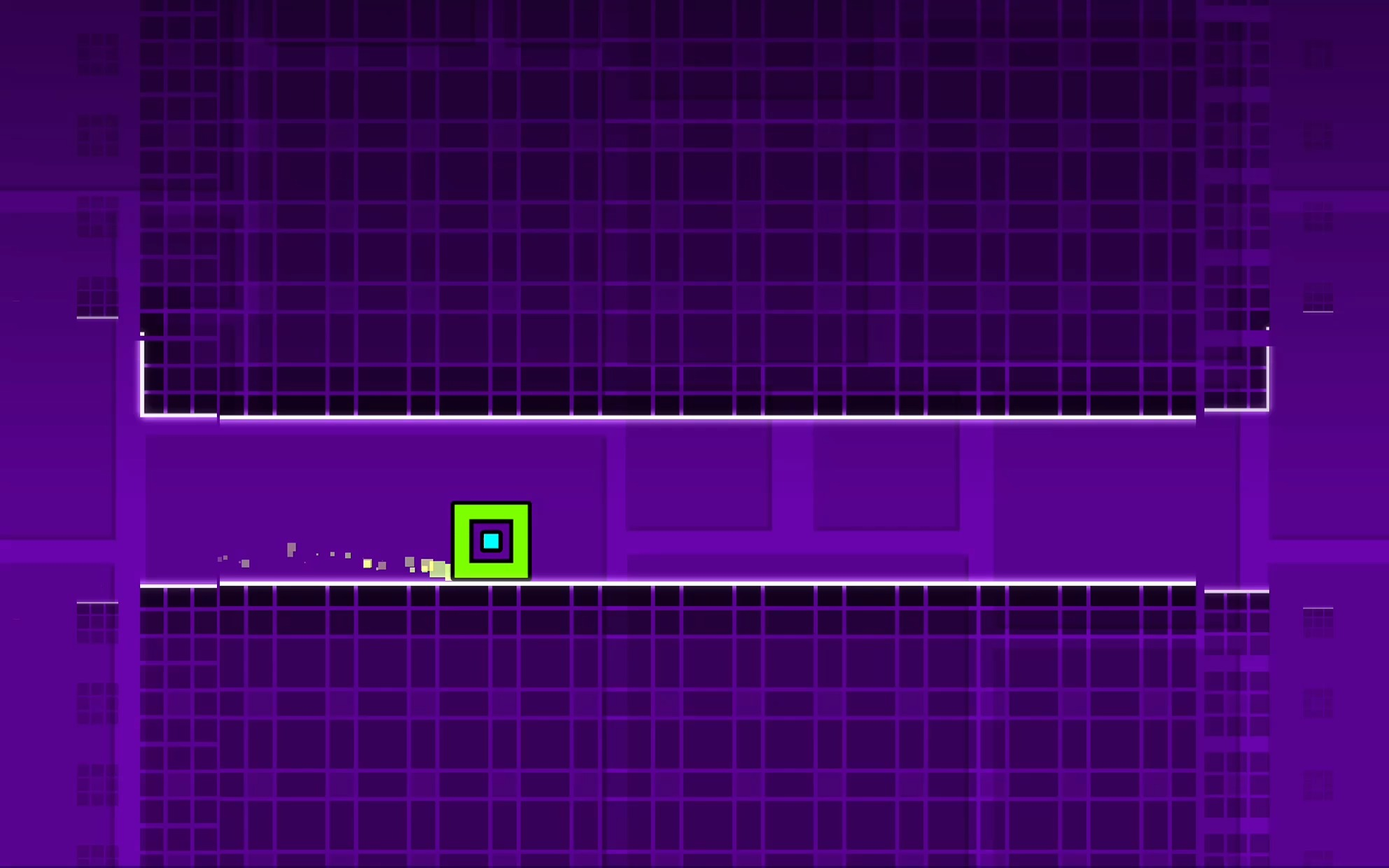Block2: (143, 0, 1268, 415), (136, 574, 1286, 848)
Player: (450, 502, 531, 579)
